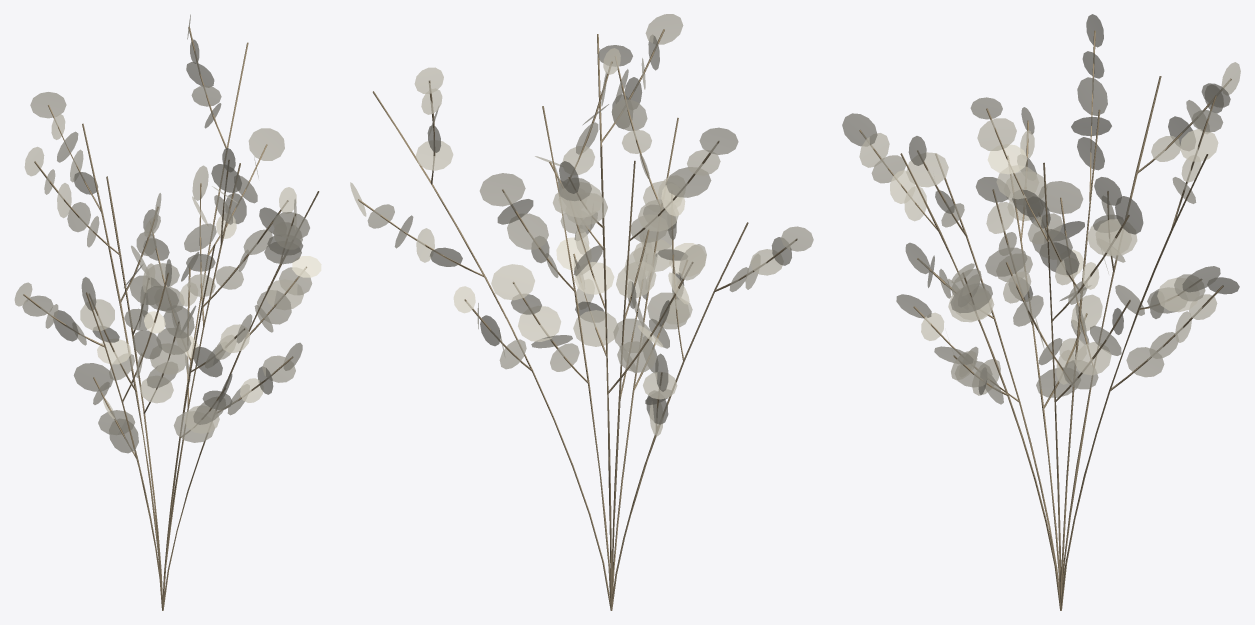
The model's file is lunaria-2.glb.
The picture shows the model from 3 angles, left to right: view 1: azimuth 30°, elevation 25°; view 2: azimuth 150°, elevation 25°; view 3: azimuth 270°, elevation 25°; orthographic projection. The views are drawn at different scales.
Parts seen in each view (by area): view 1: lunaria-leaves, lunaria-stems; view 2: lunaria-leaves, lunaria-stems; view 3: lunaria-leaves, lunaria-stems.
Boxes of the visible parts, x1=… form: lunaria-leaves: x1=14, y1=14, x2=321, y2=453; lunaria-stems: x1=23, y1=26, x2=319, y2=610; lunaria-leaves: x1=350, y1=14, x2=813, y2=436; lunaria-stems: x1=358, y1=29, x2=797, y2=610; lunaria-leaves: x1=842, y1=14, x2=1240, y2=404; lunaria-stems: x1=859, y1=30, x2=1231, y2=610.
Size of the model in its own units: 0.5119 by 0.7395 by 0.461.
